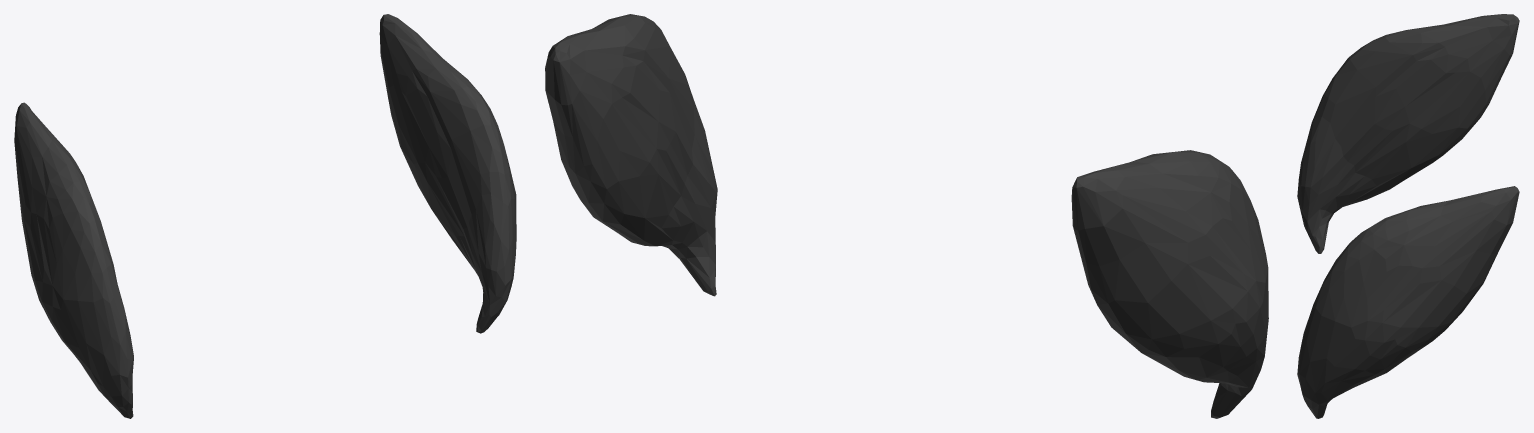
File: m_quadriceps_vastus_lateralis.glb
3 views of the same model, side by side, from view 1: azimuth 30°, elevation 25°; view 2: azimuth 150°, elevation 25°; view 3: azimuth 270°, elevation 25° (orthographic). The views are drawn at different scales.
Parts seen in each view (by area): view 1: m_quadriceps_vastus_lateralis; view 2: m_quadriceps_vastus_lateralis; view 3: m_quadriceps_vastus_lateralis.
Part boxes in pixels (x1,y1,x2,y2): m_quadriceps_vastus_lateralis: (14, 14, 516, 418); m_quadriceps_vastus_lateralis: (545, 14, 1268, 418); m_quadriceps_vastus_lateralis: (1297, 14, 1519, 418).
Bounding box in the file's own units: 0.0087 × 0.00441 × 0.00377.
1 material, 1 textured.
